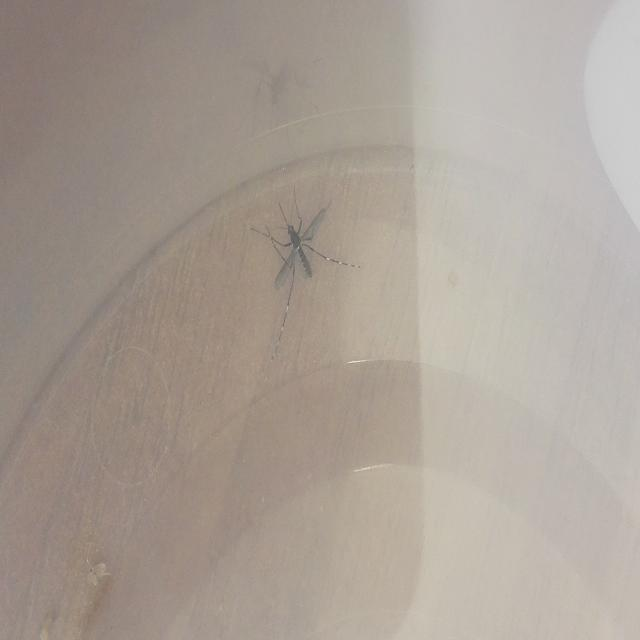albopictus: (248, 176, 362, 352)
